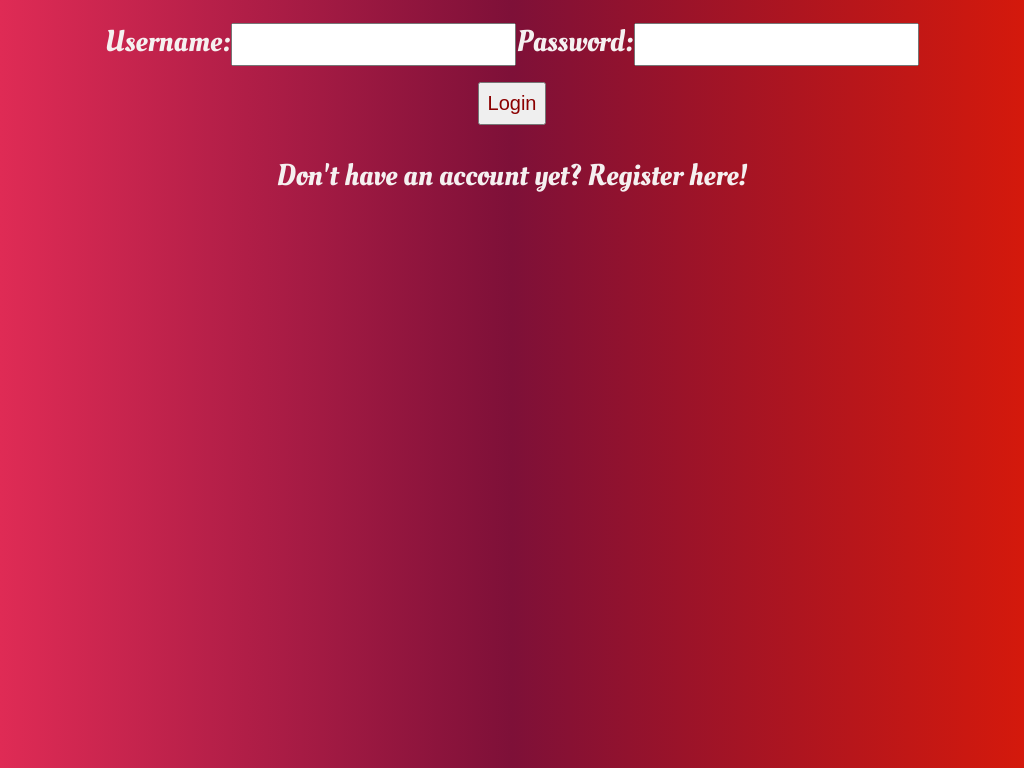
Scenario: Login Form › updates username state on user typing
This screenshot has width=1024, height=768.
In the field named "Username": (374, 45) [232,23,516,66], type "u"
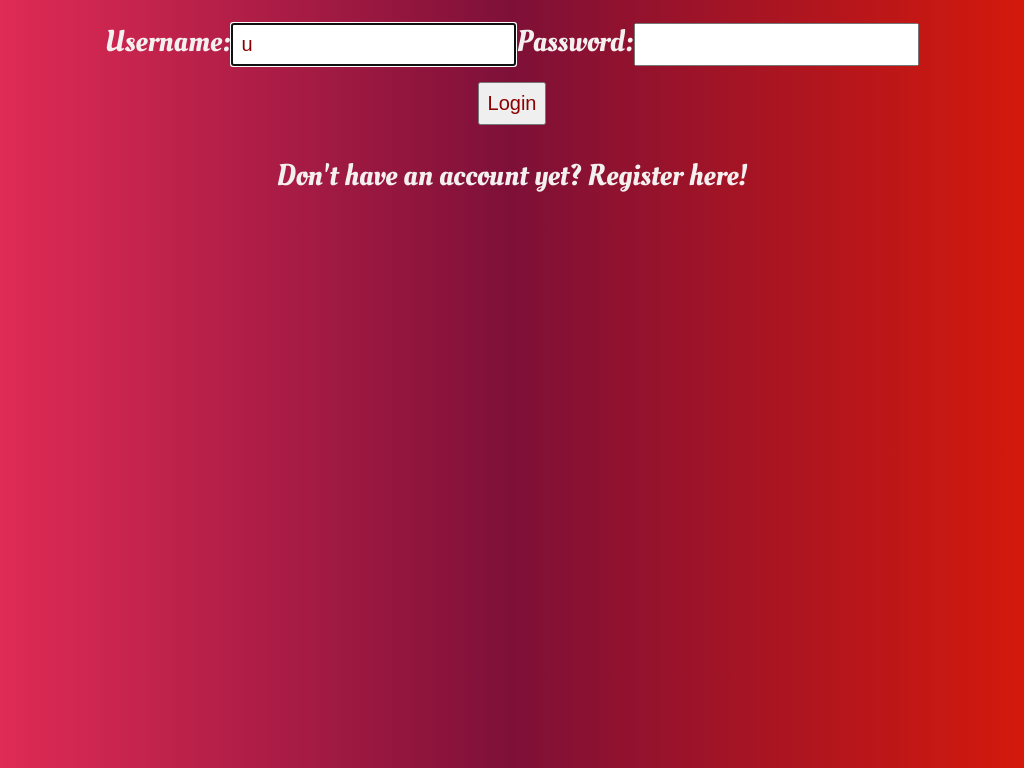
In the field named "Username": (374, 45) [232,23,516,66], type "s"
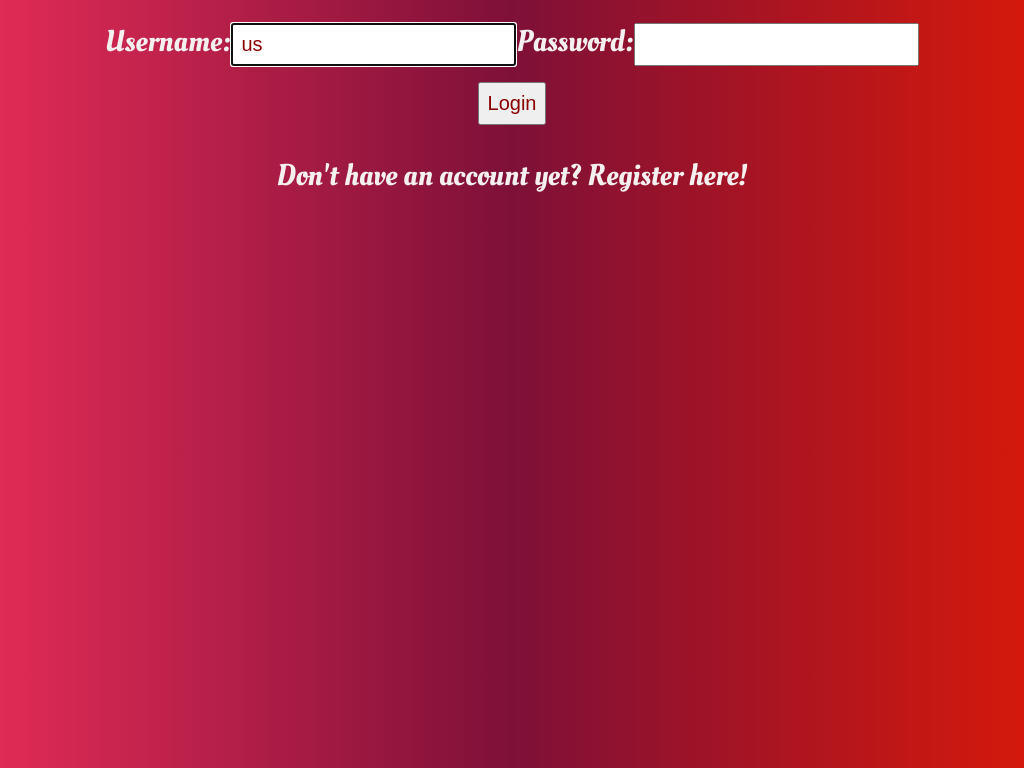
expect the field named "Username" holds "us": met
In the field named "Username": (374, 45) [232,23,516,66], type "e"
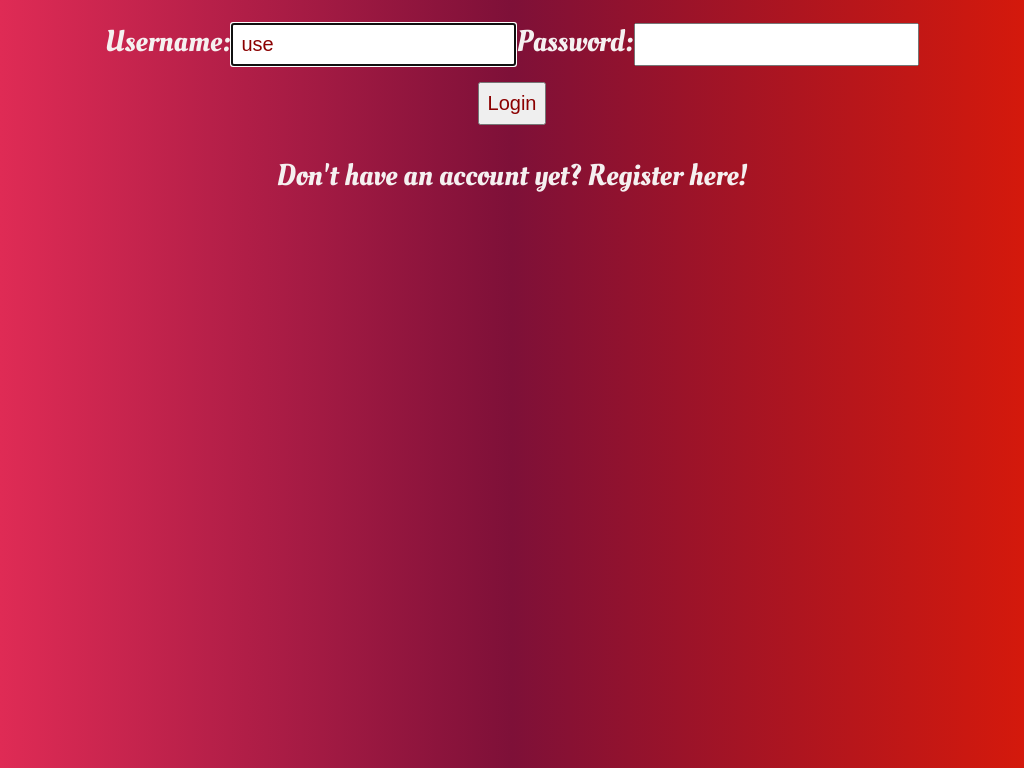
expect the field named "Username" holds "use": met
In the field named "Username": (374, 45) [232,23,516,66], type "r"
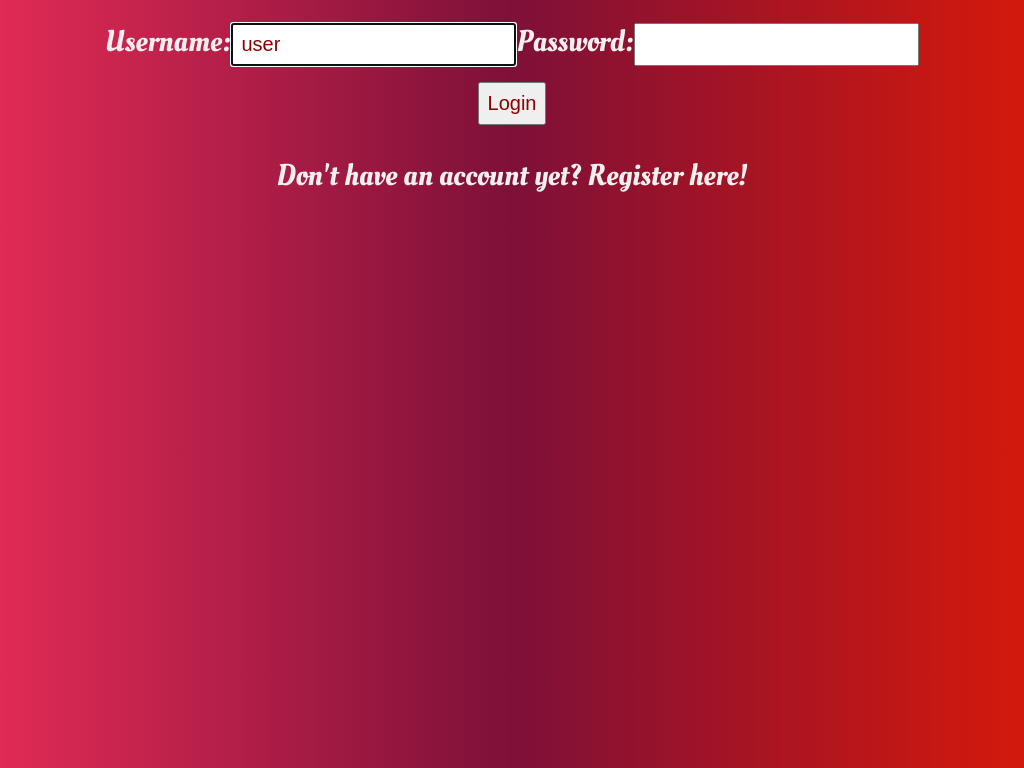
expect the field named "Username" holds "user": met, box [232,23,516,66]
